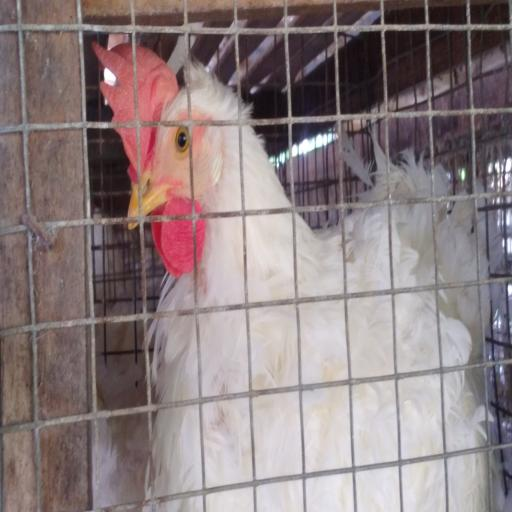healthy: (98, 34, 254, 280)
